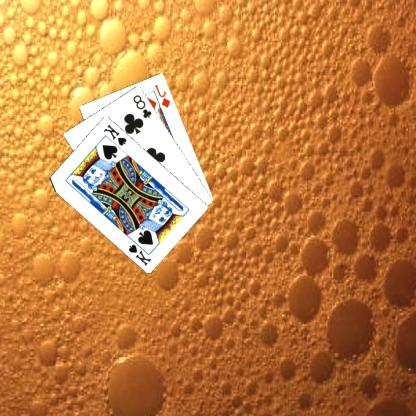8C: (132, 91, 155, 119)
JD: (154, 82, 174, 108)
KS: (128, 236, 154, 267), (102, 121, 130, 147)
